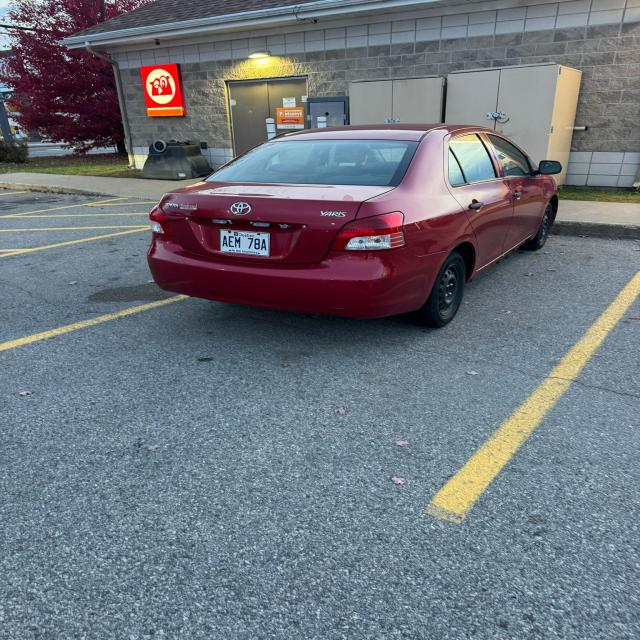plaque: (220, 230, 269, 255)
